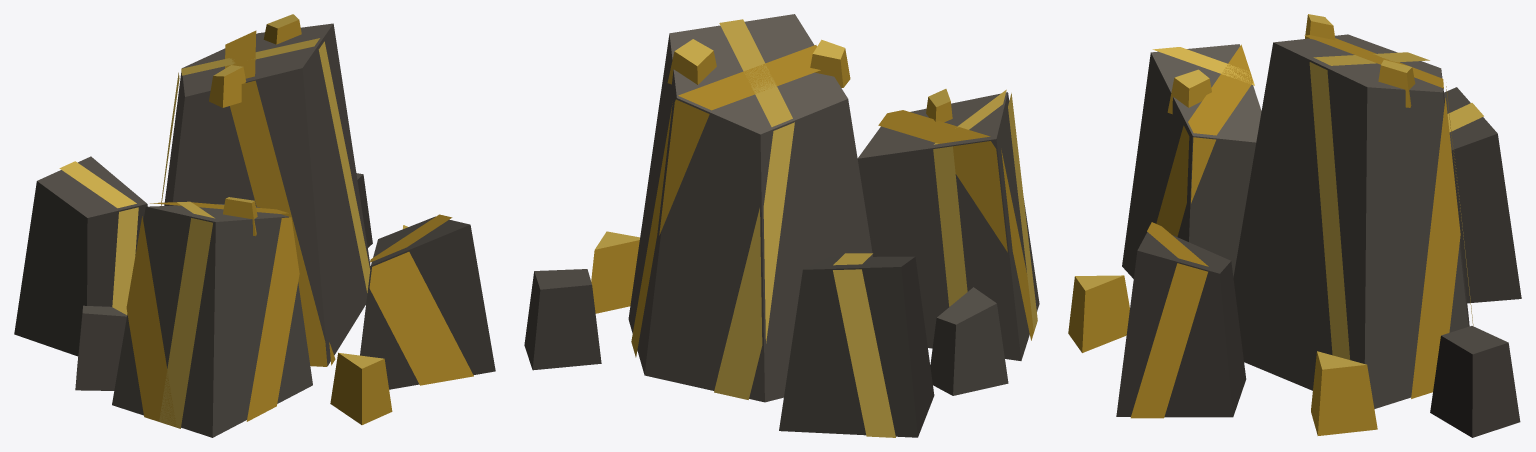
File: gold-deposit.glb
3 renders of one model, left to right at view 1: azimuth 30°, elevation 25°; view 2: azimuth 150°, elevation 25°; view 3: azimuth 270°, elevation 25°, orthographic. The views are drawn at different scales.
Visible parts, largest first — view 1: gold-deposit; view 2: gold-deposit; view 3: gold-deposit.
Part boxes in pixels (<box>): gold-deposit: <box>14,14,495,437</box>; gold-deposit: <box>524,14,1039,437</box>; gold-deposit: <box>1068,14,1521,437</box>.
Bounding box in the file's own units: 1.75 × 1.27 × 1.67.
